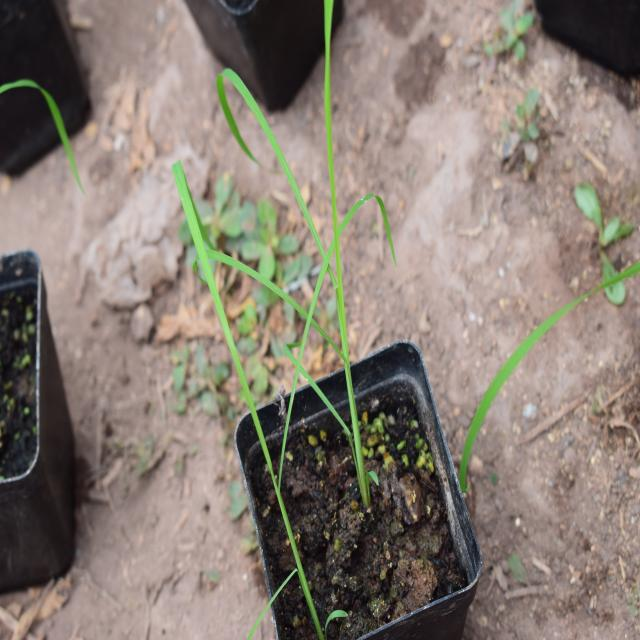barnyard_grass: (140, 40, 410, 506)
